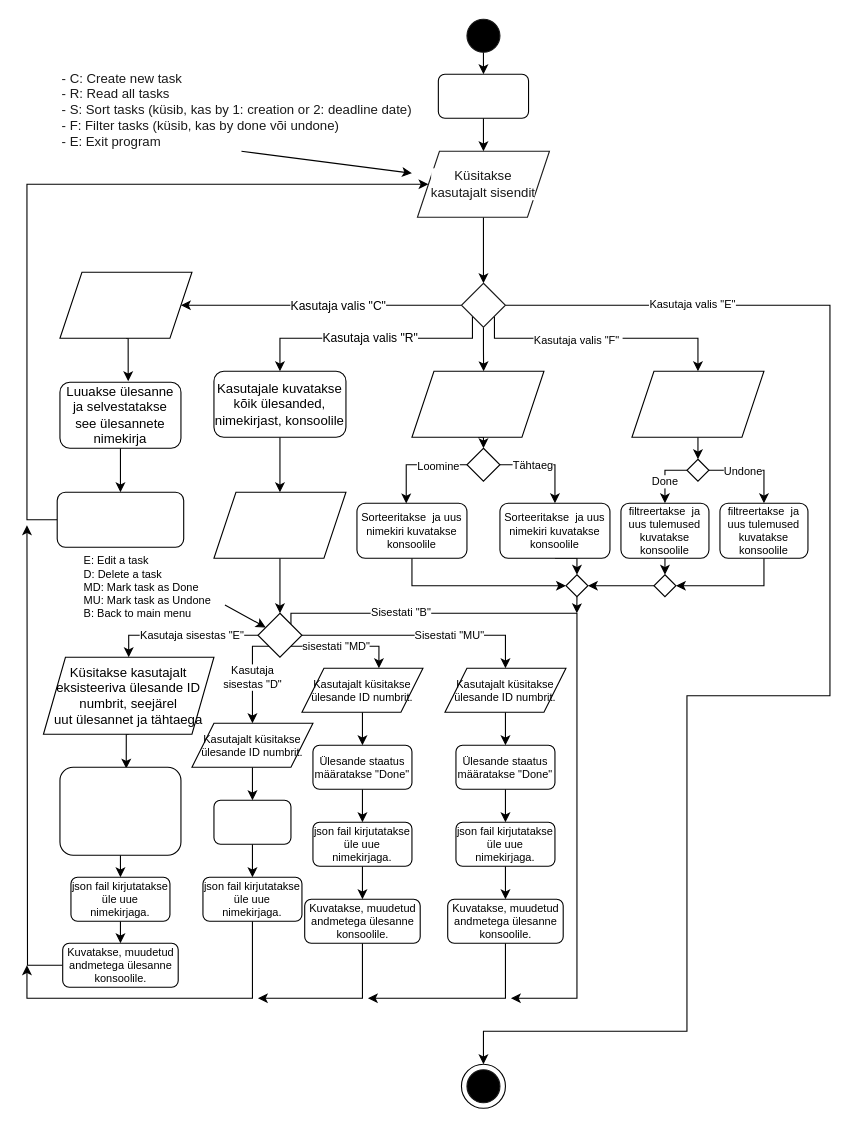
This 858x1128 diagram has some shape labels left out. Each missing label, with the centre of its shape:
Kasutajalt küsitakse sisendit järgmise tegevuse kohta: point 279,524
Kustutatakse ülesanne nimekirjast.: point 252,821
Küsitakse kasutajalt Uut ülesannet ja tähtaega: point 125,304
Küsitakse kasutajalt, kas filtreerida staatuse "Done" või "Undone" järgi.: point 697,403
Küsitakse kasutajalt, kas sorteerida loomise või tähtaja kuupäeva järgi.: point 477,403
Loetakse json failist ülesannete nimekiri: point 483,95
muudetakse ülesande andmeid ja selvestatakse see ülesannete nimekirja: point 120,810
Ülesannete nimekiri kirjutatakse json faili: point 120,519
